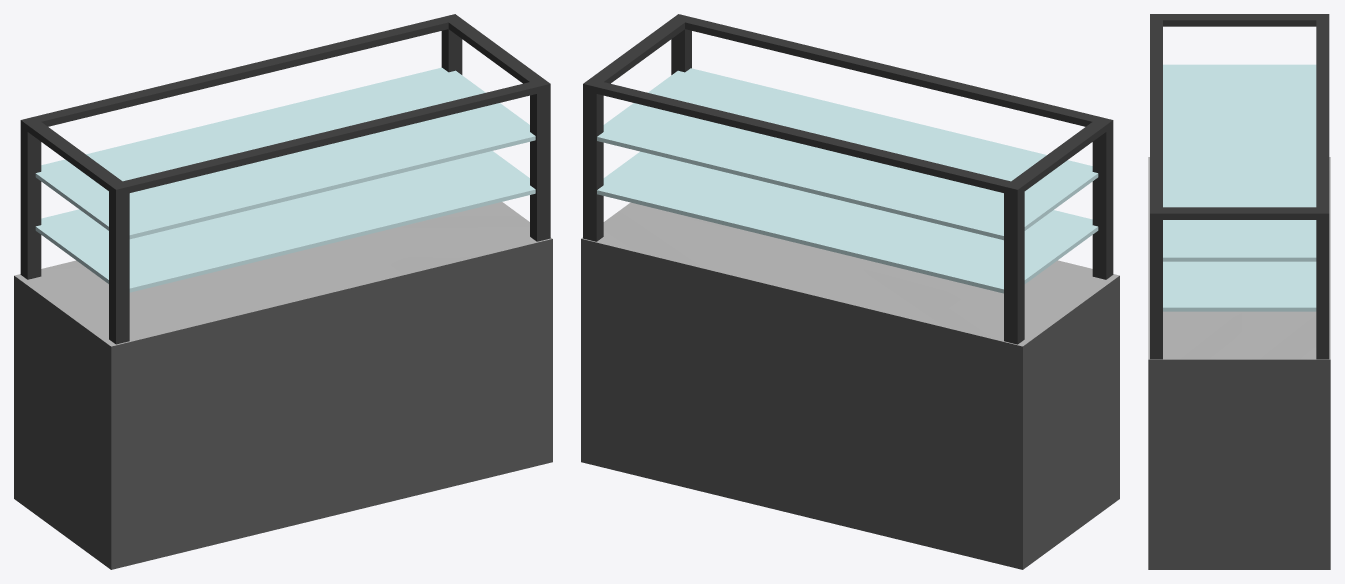
Rendered from shop_071.glb.
3 renders of one model, left to right at view 1: azimuth 30°, elevation 25°; view 2: azimuth 150°, elevation 25°; view 3: azimuth 270°, elevation 25°, orthographic. The views are drawn at different scales.
Visible parts, largest first — view 1: shop_071; view 2: shop_071; view 3: shop_071.
Part boxes in pixels (x1,y1,x2,y2): shop_071: [14, 14, 552, 569]; shop_071: [581, 14, 1119, 569]; shop_071: [1148, 14, 1330, 569].
Bounding box in the file's own units: 1.47 × 1.21 × 0.5609.
1 material, 1 textured.
